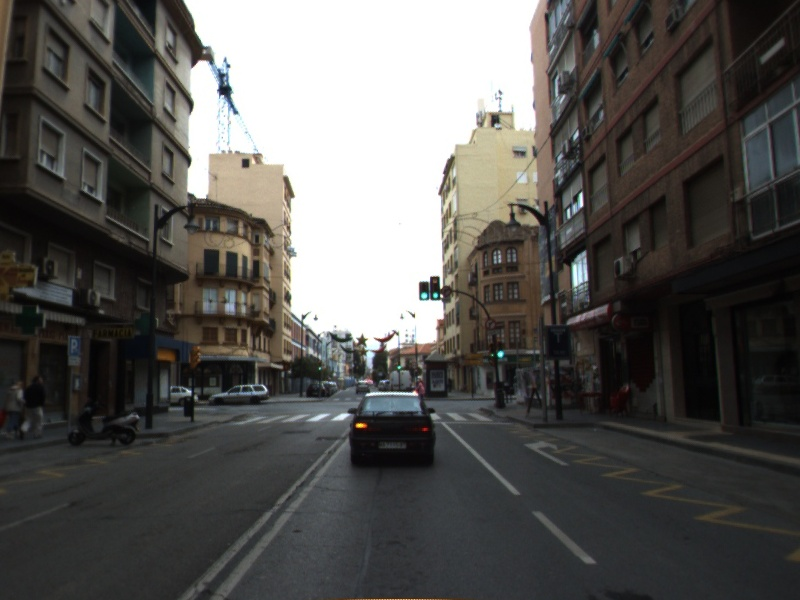RIGHT: (522, 438, 572, 467)
